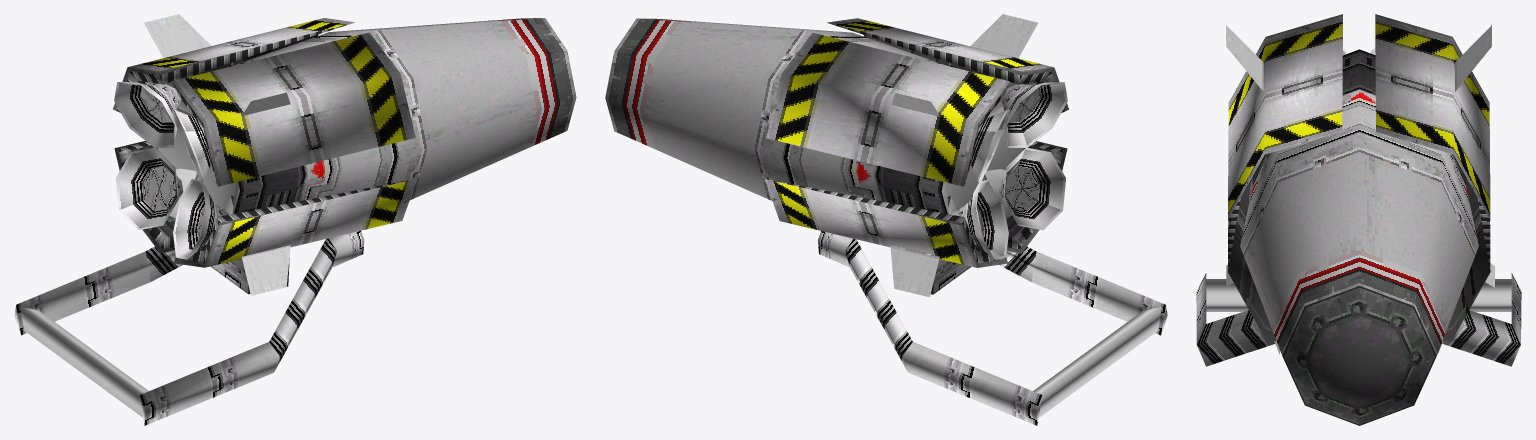
Rendered from Rocket.obj.
3 views of the same model, side by side, from view 1: azimuth 30°, elevation 25°; view 2: azimuth 150°, elevation 25°; view 3: azimuth 270°, elevation 25° (orthographic). The views are drawn at different scales.
Bounding box in the file's own units: 14.29 × 8.06 × 6.6.
